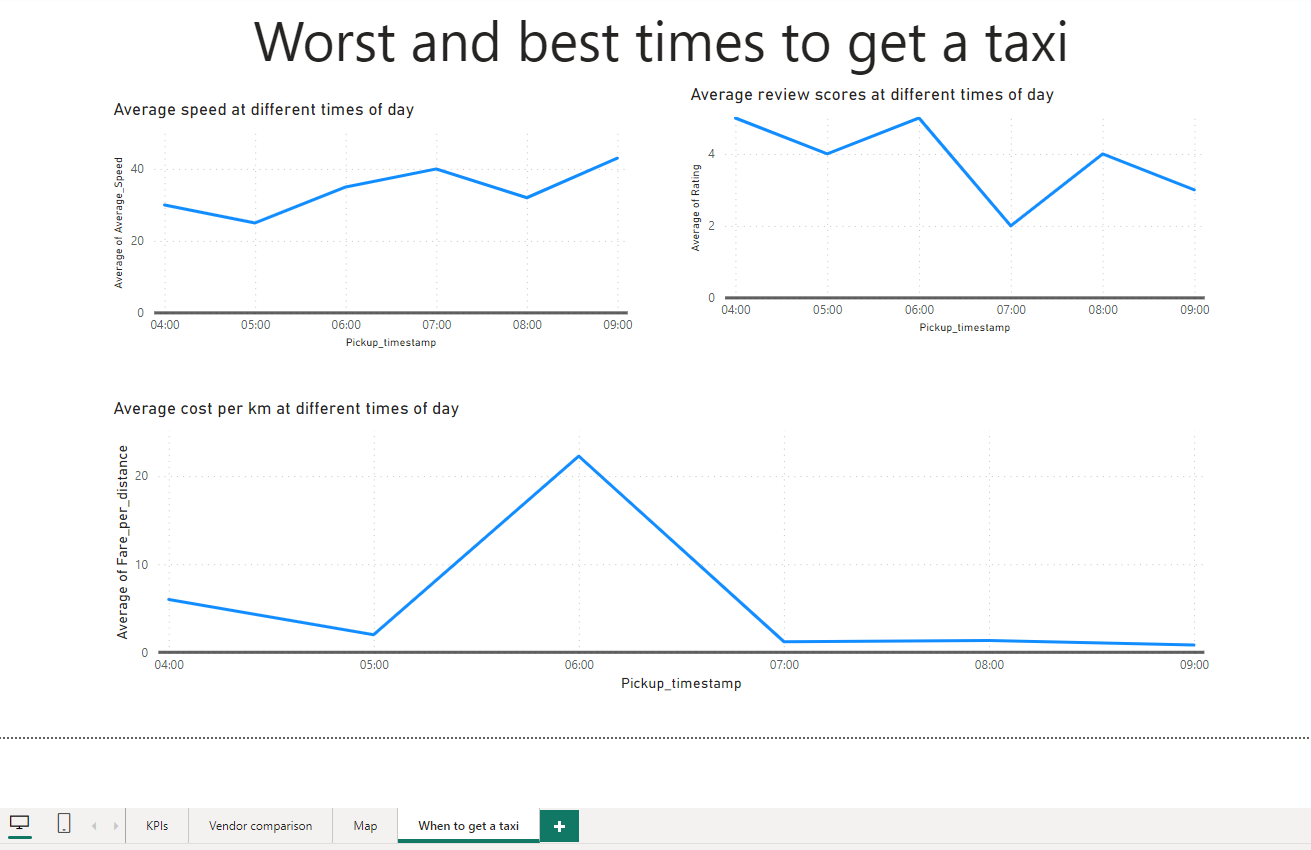

The dashboard page shown, as its layout file describes it:
{"tool":"powerbi","page":{"name":"When to get a taxi","canvas":[1280,720],"ordinal":2},"visuals":[{"type":"lineChart","title":"Average speed at different times of day","fields":{"Y":["Avg(Trips.Average_Speed)"],"Category":["Trips.Pickup_timestamp"]},"box":[106.9,100.1,515.1,246.9],"z":0},{"type":"textbox","box":[9.9,0,1269.9,86],"z":1000},{"type":"lineChart","title":"Average cost per km at different times of day","fields":{"Category":["Trips.Pickup_timestamp"],"Y":["Avg(Trips.Fare_per_distance)"]},"box":[106.6,390.4,1075.5,290.1],"z":2000},{"type":"lineChart","title":"Average review scores at different times of day","fields":{"Y":["Avg(Trips.Rating)"],"Category":["Trips.Pickup_timestamp"]},"box":[667.7,85.5,515.1,246.9],"z":3000}]}

Visuals, with their boxes on the page's 1280x720 design canvas (x1, y1, x2, y2). These are canvas units, not pixel positions in the 1311x850 screenshot, which may show the page scaled, cropped or inside an application window:
"Average speed at different times of day" lineChart: (107, 100, 622, 347)
textbox: (10, 0, 1280, 86)
"Average cost per km at different times of day" lineChart: (107, 390, 1182, 680)
"Average review scores at different times of day" lineChart: (668, 86, 1183, 332)
